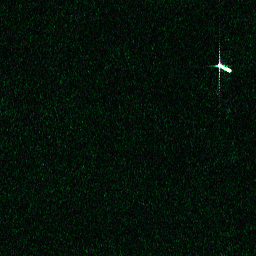ship: (215, 61, 233, 74)
